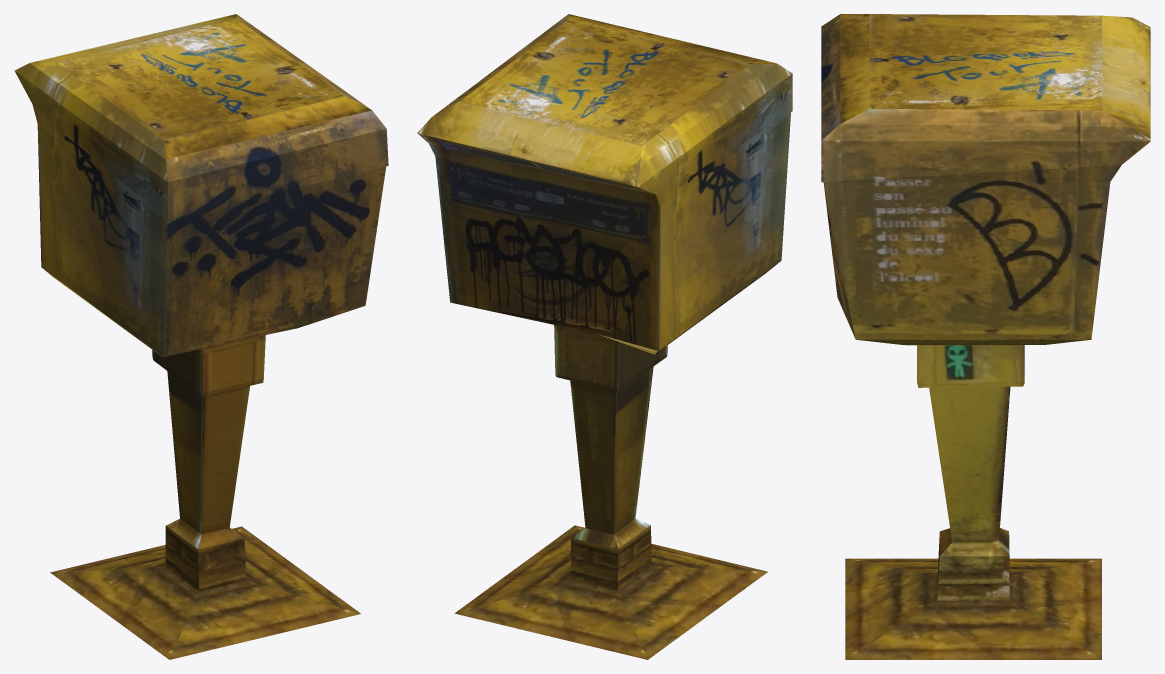
File: Mailbox.fbx
3 renders of one model, left to right at view 1: azimuth 30°, elevation 25°; view 2: azimuth 150°, elevation 25°; view 3: azimuth 270°, elevation 25°, orthographic. The views are drawn at different scales.
Parts seen in each view (by area): view 1: Mailbox; view 2: Mailbox; view 3: Mailbox.
Part boxes in pixels (x1,y1,x2,y2): Mailbox: (14,14,388,659); Mailbox: (417,14,792,659); Mailbox: (821,14,1150,659).
Size of the model in its own units: 0.6778 by 0.816 by 1.5.
1 material, 1 textured.
